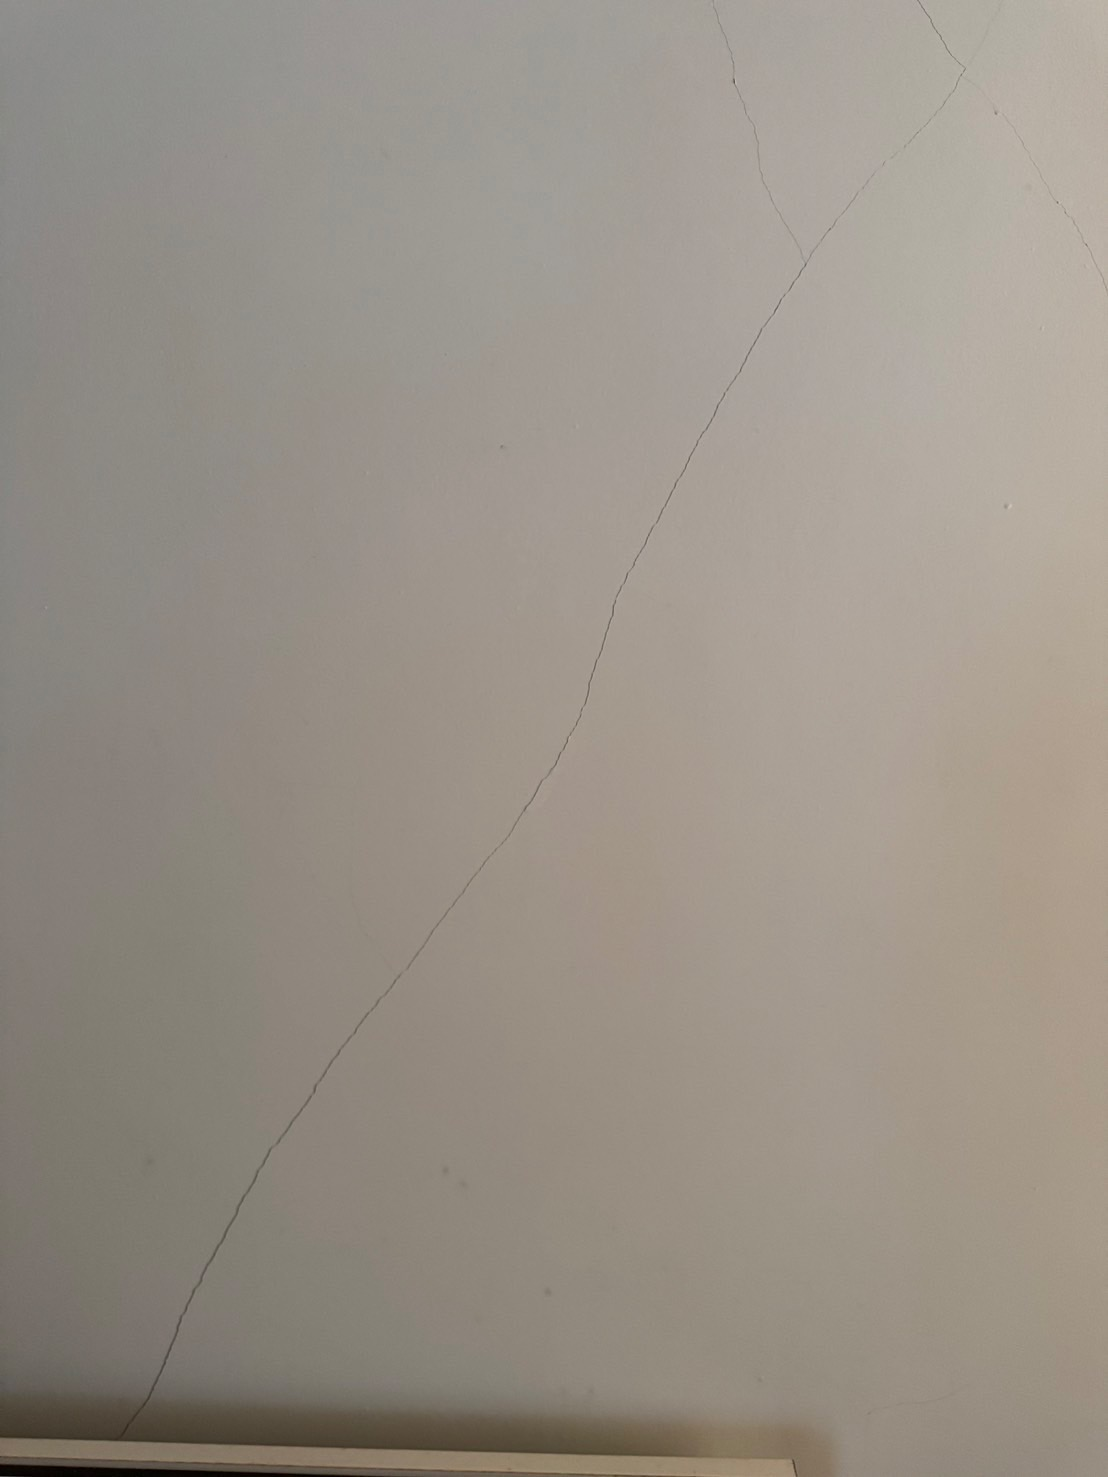Low: (114, 1, 1108, 1430)
